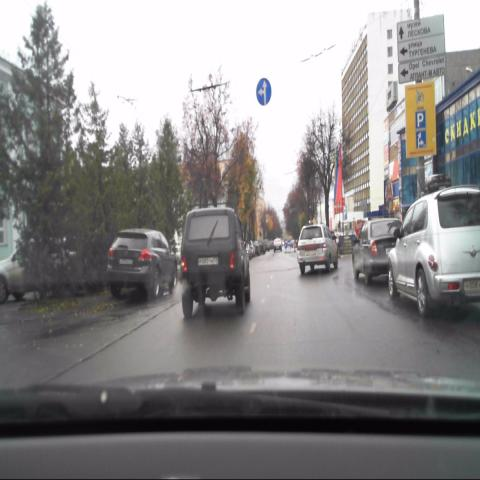4_1_5: (255, 77, 272, 106)
